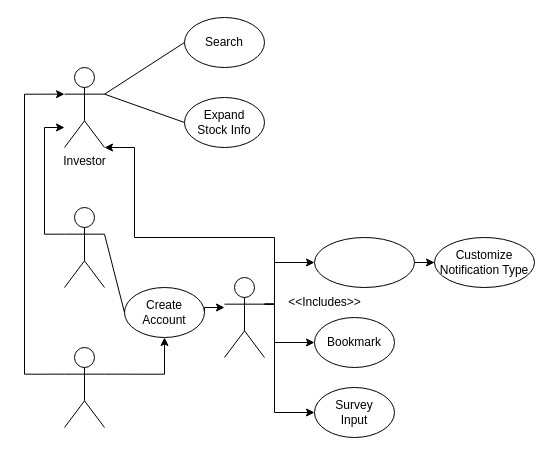
The diagram is 552 pixels wide and 466 high, and some of its shapes have lost their labels. Here are the shapes that lost their labels. From the top down, the centre of each, then its label:
At (84,247): "Web User".
At (364,262): "Receive Push Notifications".
At (244,317): "Account Linked".
At (84,387): "App User".
